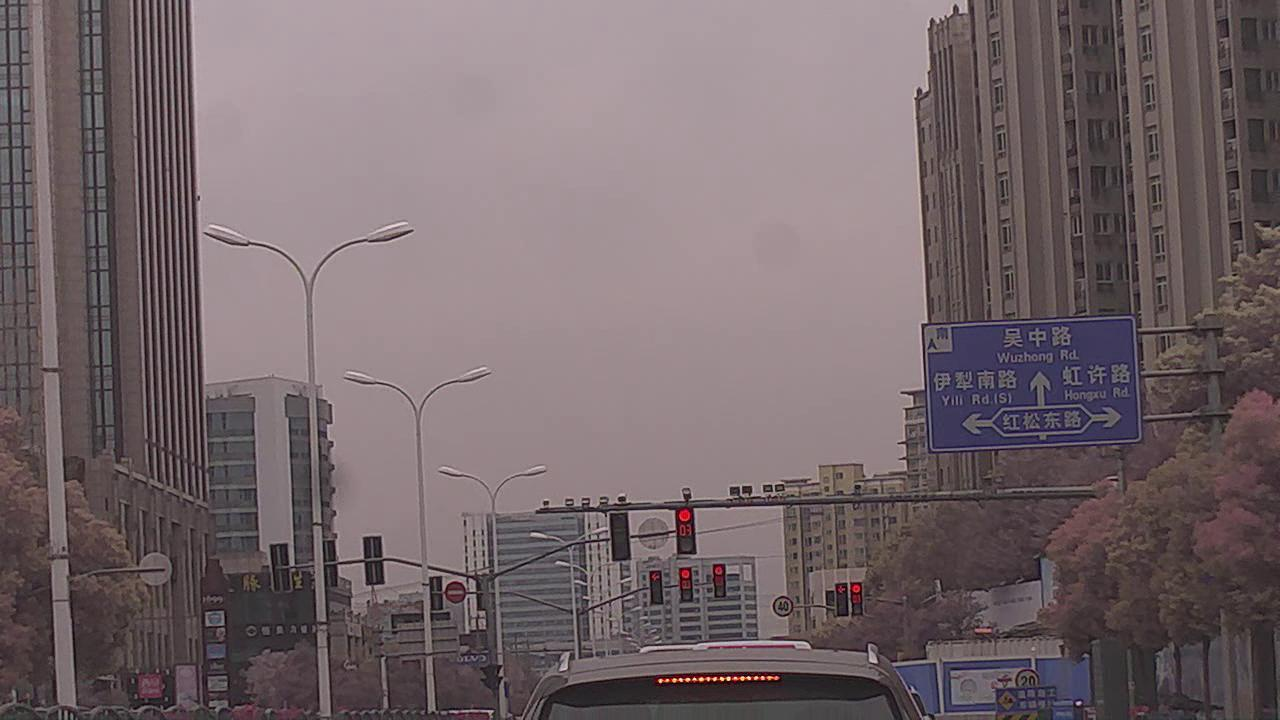traffic_light: (608, 512, 633, 562), (675, 506, 698, 556), (679, 568, 695, 604), (649, 568, 664, 605), (713, 561, 728, 598), (834, 584, 847, 618), (851, 582, 864, 616)
